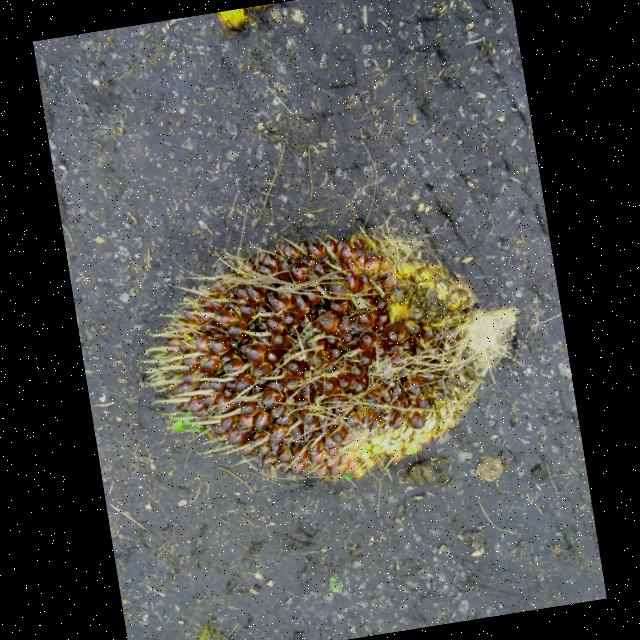Ripe: (149, 230, 519, 486)
